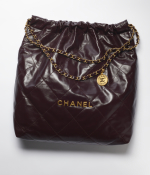channel: (20, 19, 150, 146), (52, 92, 104, 118), (45, 45, 98, 64), (97, 70, 115, 85)
